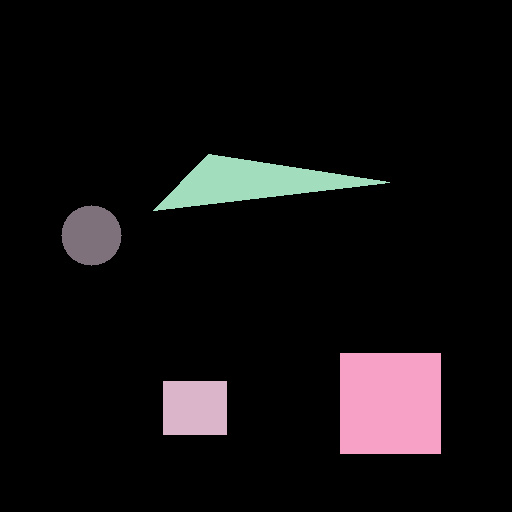circle: (61, 205, 121, 265)
rectangle: (163, 381, 226, 434)
square: (340, 353, 440, 453)
triangle: (153, 154, 389, 210)
